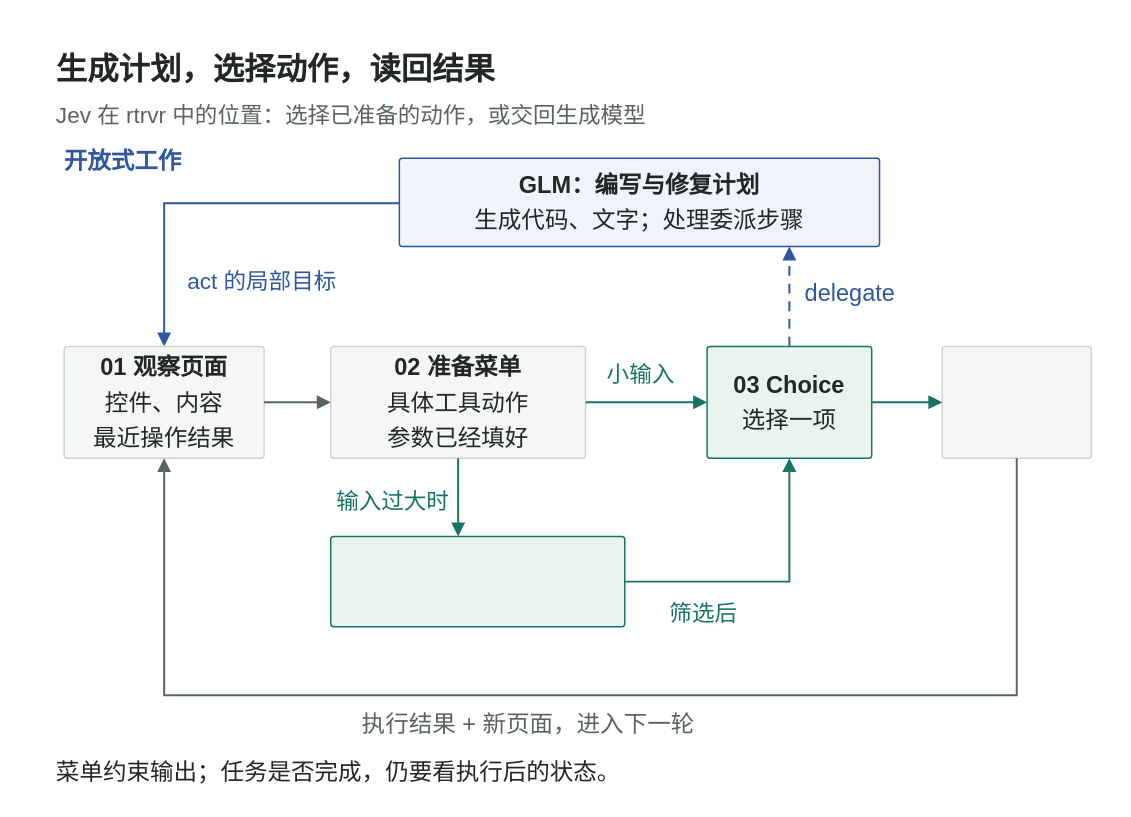
Some shapes in this 1131 by 817 pixel diagram are drawn without their labels. Here are the shapes that lost their labels. From the top down, the centre of each, then its label:
At (1016,401): "04 执行 操作页面".
At (477,581): "Score：并行评相关性 保留相关原文与动作".
